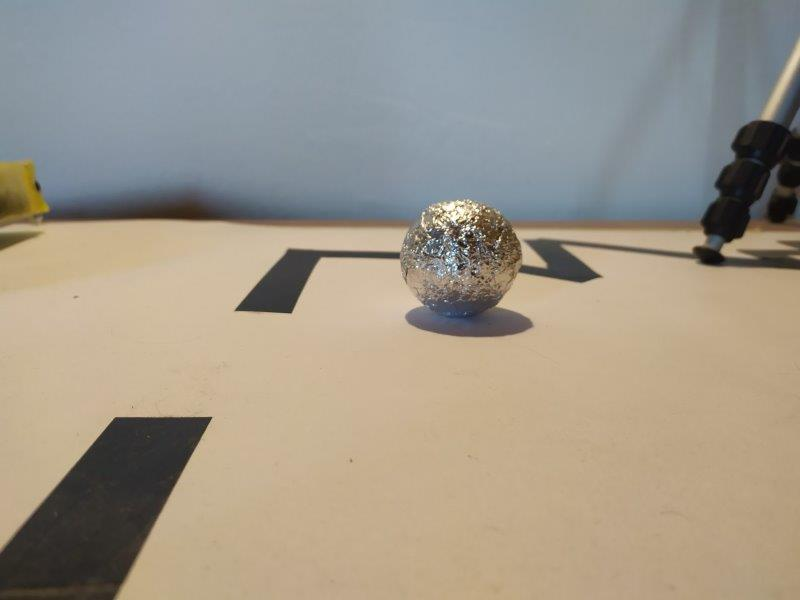bianca: (399, 196, 523, 319)
